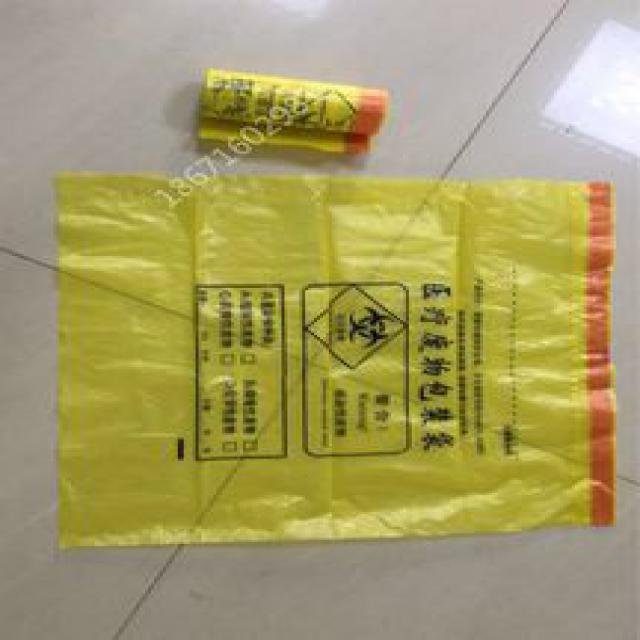waste: (44, 161, 614, 550)
